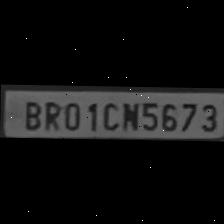0: (58, 98, 82, 129)
1: (82, 98, 100, 129)
3: (197, 100, 219, 130)
5: (138, 98, 158, 129)
6: (158, 98, 176, 130)
7: (176, 99, 196, 130)
B: (20, 97, 42, 128)
C: (98, 97, 119, 128)
N: (118, 98, 138, 129)
R: (40, 98, 60, 130)
